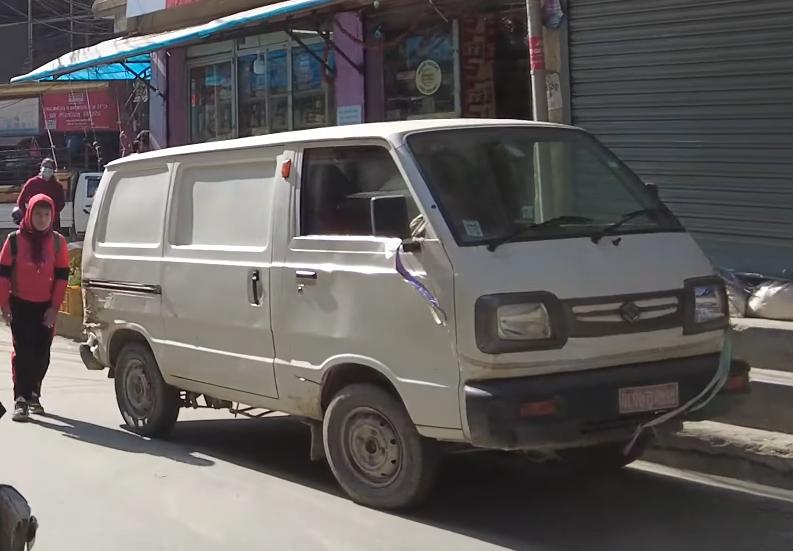van: (72, 111, 762, 516)
